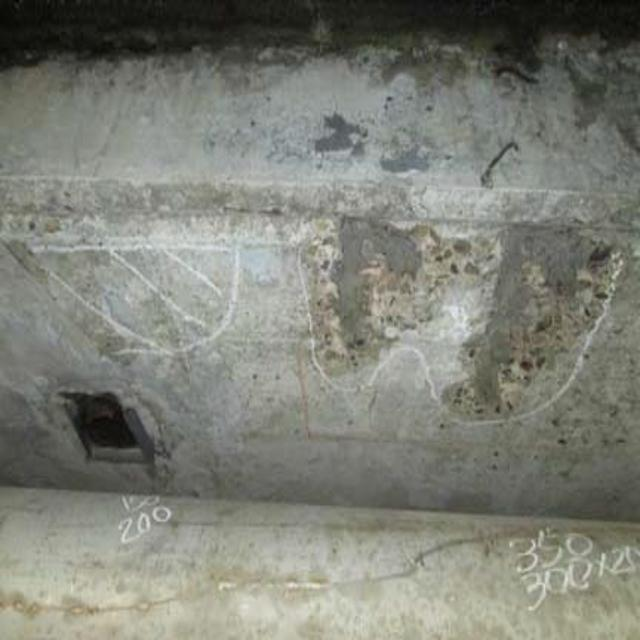spalling: (287, 187, 629, 413)
